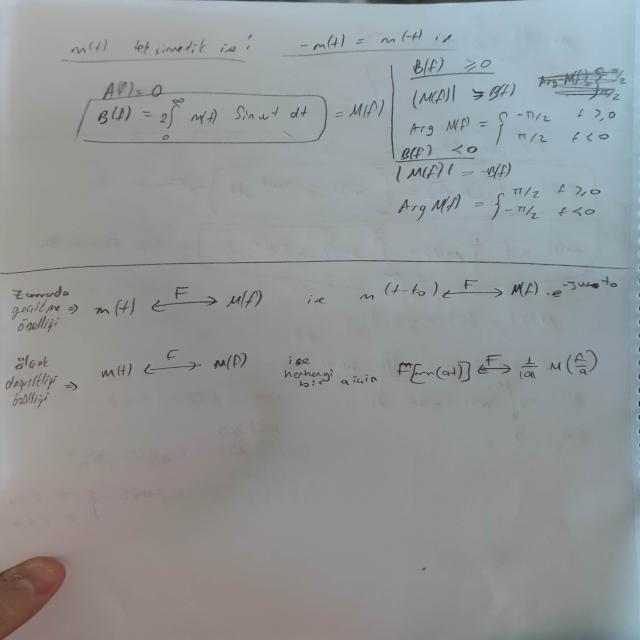math: (89, 272, 630, 332), (95, 345, 605, 396), (384, 177, 607, 230), (404, 106, 620, 154), (87, 98, 314, 140), (293, 28, 459, 52)
